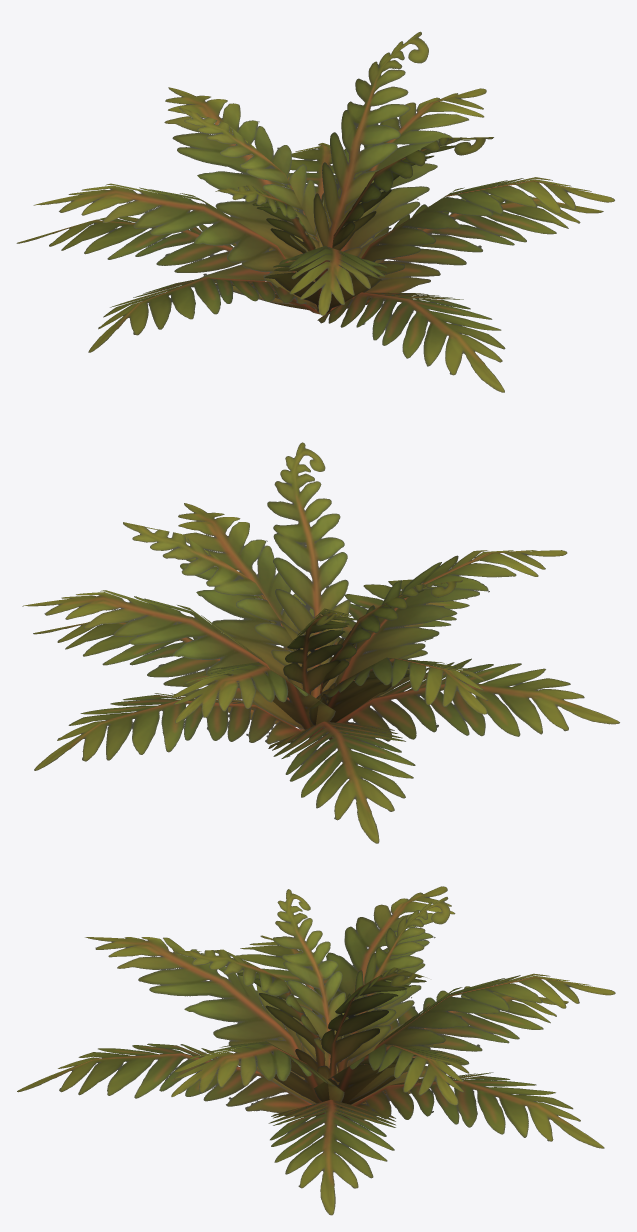
The model's file is Jungle_plant_07.fbx.
3 views of the same model, one above another, from view 1: azimuth 30°, elevation 25°; view 2: azimuth 150°, elevation 25°; view 3: azimuth 270°, elevation 25° (orthographic). The views are drawn at different scales.
Visible parts, largest first — view 1: Jungle_plant_07; view 2: Jungle_plant_07; view 3: Jungle_plant_07.
Boxes of the visible parts, box(x1,y1,x2,y2) form: Jungle_plant_07: box(16, 31, 614, 392); Jungle_plant_07: box(22, 442, 619, 843); Jungle_plant_07: box(17, 886, 615, 1215).
Bounding box in the file's own units: 129 × 49.09 × 126.
